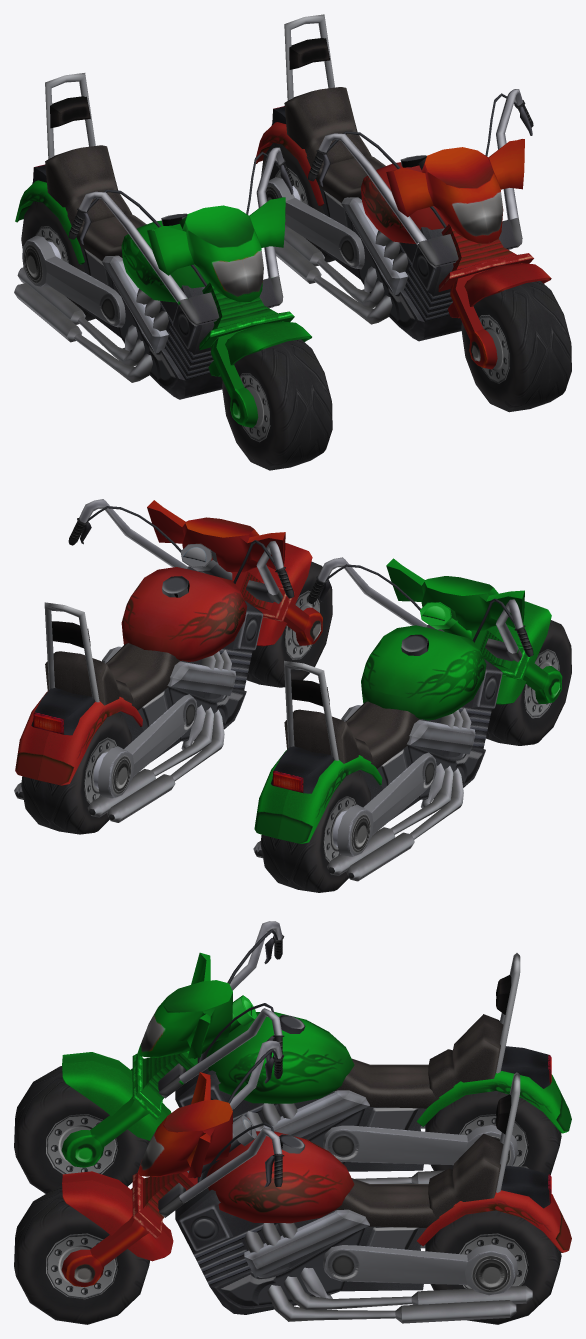
File: Bike_02.fbx
The picture shows the model from 3 angles, top to bottom: view 1: azimuth 30°, elevation 25°; view 2: azimuth 150°, elevation 25°; view 3: azimuth 270°, elevation 25°; orthographic projection. The views are drawn at different scales.
Parts seen in each view (by area): view 1: Body (×2), polySurface93 (×2), FrontWheel (×2), BackWheel (×2); view 2: Body (×2), polySurface93 (×2), BackWheel (×2), FrontWheel (×2); view 3: Body (×2), polySurface93 (×2), FrontWheel (×2), BackWheel (×2).
Boxes of the visible parts, x1=… form: Body (×2): x1=14, y1=14, x2=461, y2=399; polySurface93 (×2): x1=68, y1=89, x2=551, y2=427; FrontWheel (×2): x1=222, y1=281, x2=571, y2=470; BackWheel (×2): x1=21, y1=143, x2=334, y2=320; Body (×2): x1=14, y1=567, x2=502, y2=881; polySurface93 (×2): x1=68, y1=499, x2=562, y2=704; BackWheel (×2): x1=21, y1=712, x2=370, y2=892; FrontWheel (×2): x1=246, y1=561, x2=571, y2=745; Body (×2): x1=175, y1=953, x2=571, y2=1323; polySurface93 (×2): x1=61, y1=921, x2=284, y2=1287; FrontWheel (×2): x1=14, y1=1066, x2=149, y2=1324; BackWheel (×2): x1=425, y1=1091, x2=561, y2=1324.
Size of the model in its own units: 5.83 by 2.78 by 5.93.
Materials: 2 (2 with a texture image).
